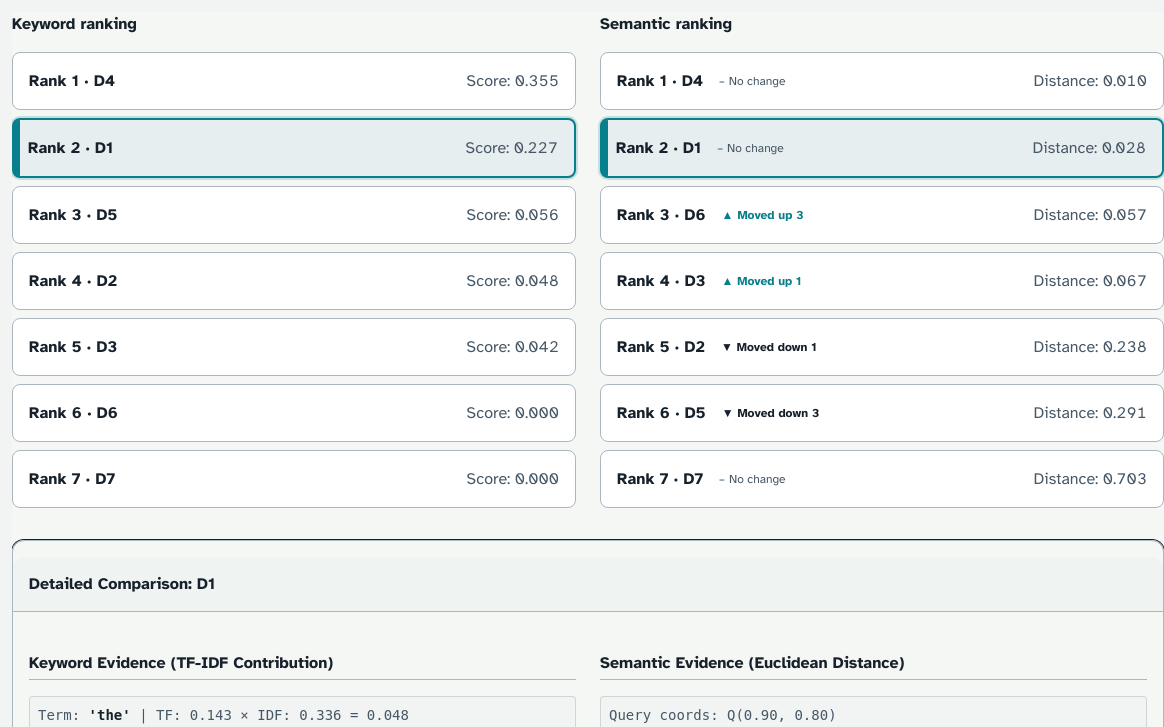
Test: FinalComparisonStep Component › clicking a document row highlights that document in both columns and shows detailed card
Expected: the heading "Detailed Comparison: D1" is shown, x1=29 y1=574 x2=215 y2=594
# Click D2 row
Click the option "Rank 4 · D2 Score: 0.048".
click(50, 281)  # box x1=12 y1=252 x2=576 y2=310
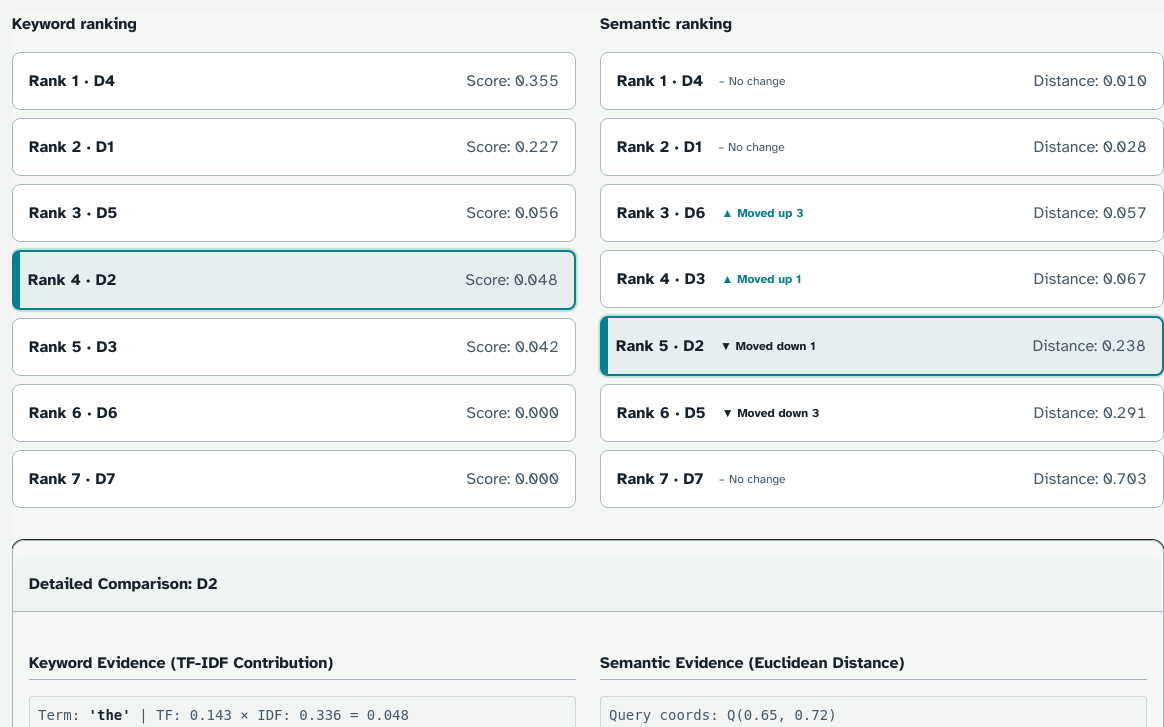
Expected: the heading "Detailed Comparison: D2" is shown, x1=29 y1=574 x2=217 y2=594
